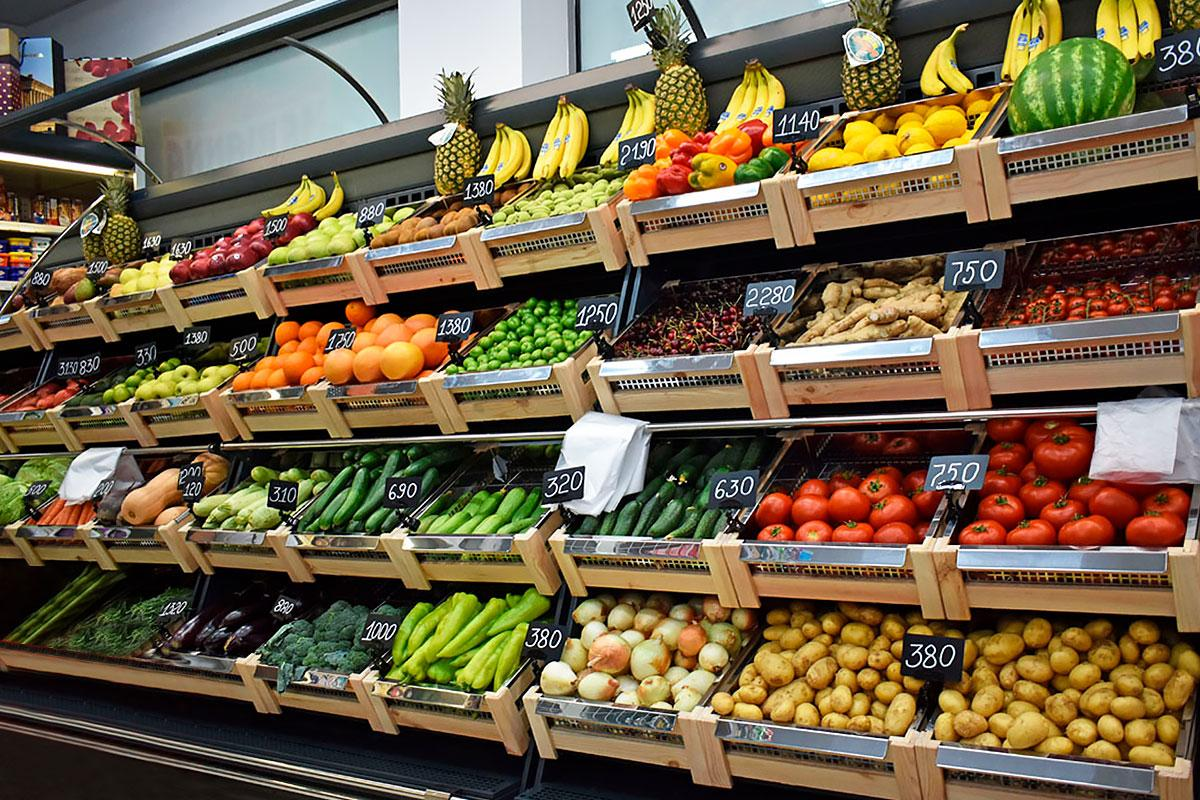banana: (482, 85, 657, 185), (719, 58, 788, 127), (1002, 0, 1059, 76), (921, 22, 977, 97), (1097, 0, 1160, 64), (258, 175, 350, 215)
butternut squash: (121, 455, 181, 523)
cabbage: (0, 459, 66, 520)
carrot: (36, 496, 102, 527)
cucumber: (580, 438, 758, 542), (300, 445, 437, 537)
eggplant: (178, 595, 293, 664)
ginger: (786, 260, 971, 346)
green apple: (274, 205, 407, 265), (144, 362, 235, 403)
lemon: (812, 100, 984, 172)
onion: (542, 594, 739, 692)
orange: (234, 301, 362, 394)
pineapple: (644, 10, 712, 131), (842, 0, 907, 112), (429, 71, 484, 192), (80, 176, 144, 262)
potato: (719, 602, 1200, 771)
red apple: (175, 210, 313, 281)
sweet pepper: (630, 123, 784, 201)
tomato: (956, 417, 1181, 558), (770, 438, 952, 545), (985, 267, 1199, 340)
watermelon: (1006, 36, 1139, 135)
